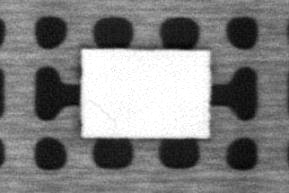DIE_CRACK: (87, 99, 118, 126)
